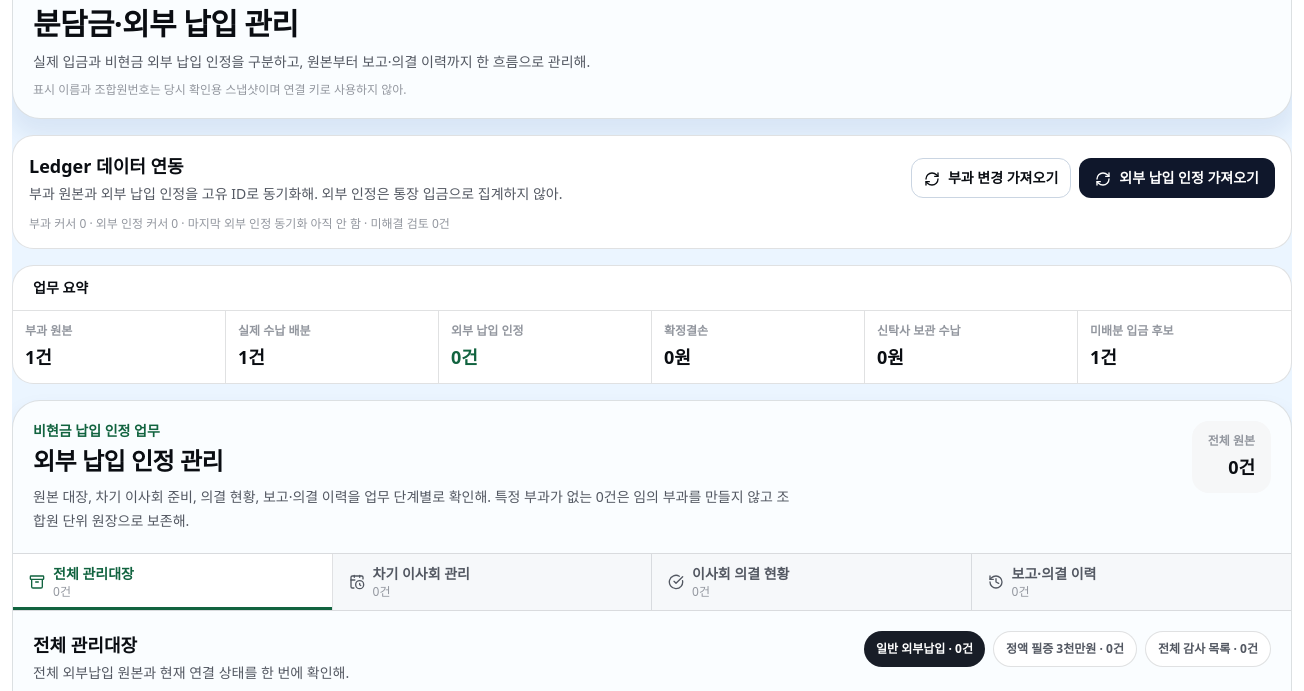
Test: collection ledger page › keeps report and decision history at the same top navigation level
Click the tab "보고·의결 이력 0건".
click(1054, 574)  # box 972,554 -> 1291,610
(page scrolled)
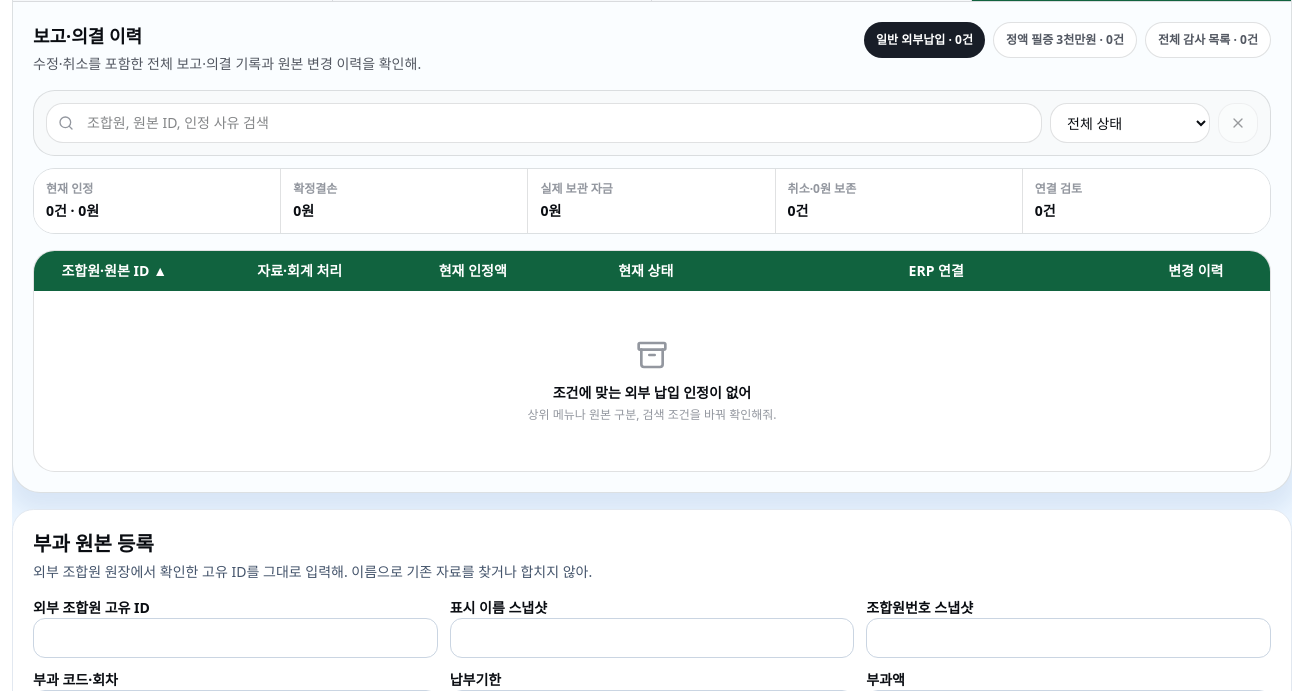
Expected: the panel named "보고·의결 이력 결과" is shown, 33,250 -> 1271,472
